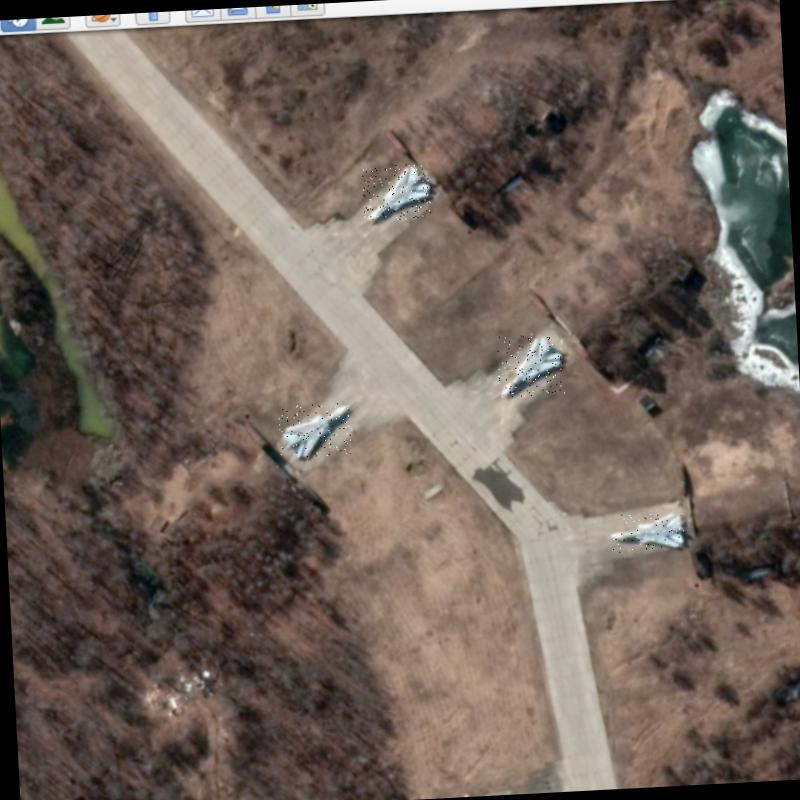A20: (496, 334, 565, 397), (362, 162, 434, 222), (278, 402, 352, 460), (606, 510, 686, 554)
